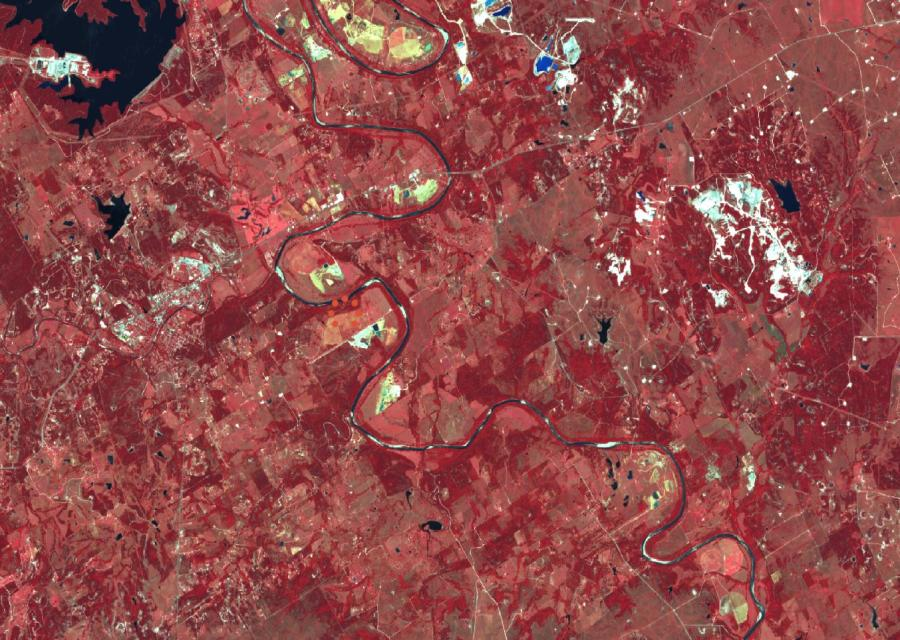Potential Lime Manufacturing Facility: (694, 176, 819, 306)
